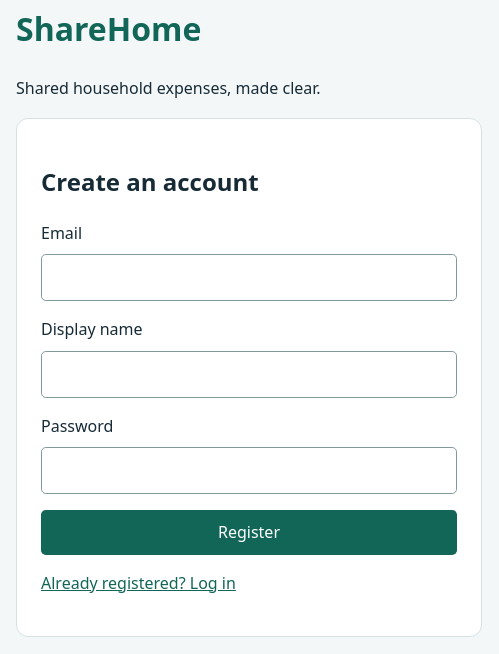
registers and returns to login with confirmation without persisting a password
In the field labelled "Email": (249, 278) x1=41 y1=254 x2=457 y2=301, type "alex@example.com"
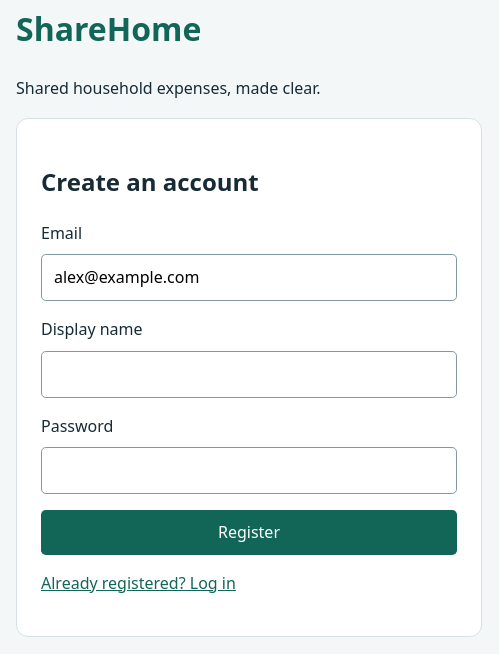
In the password field labelled "Password": (249, 471) x1=41 y1=447 x2=457 y2=494, type "test-password"
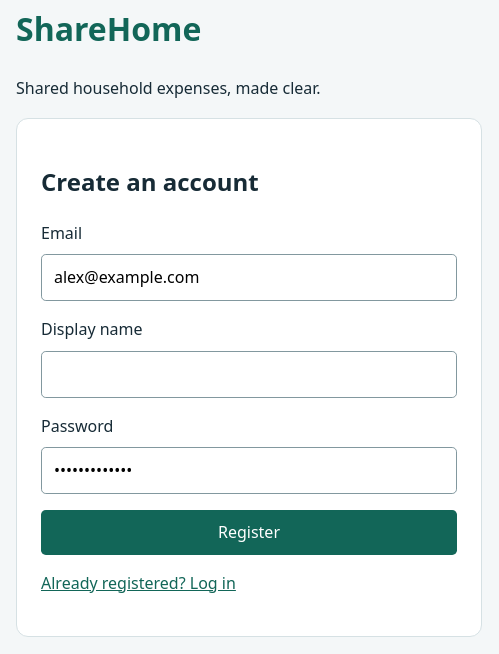
In the field labelled "Display name": (249, 374) x1=41 y1=351 x2=457 y2=398, type "Alex"
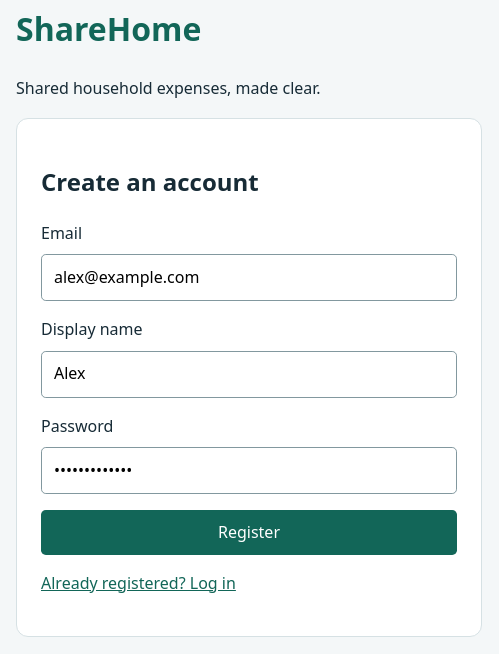
Click the button "Register": (249, 532) x1=41 y1=510 x2=457 y2=555
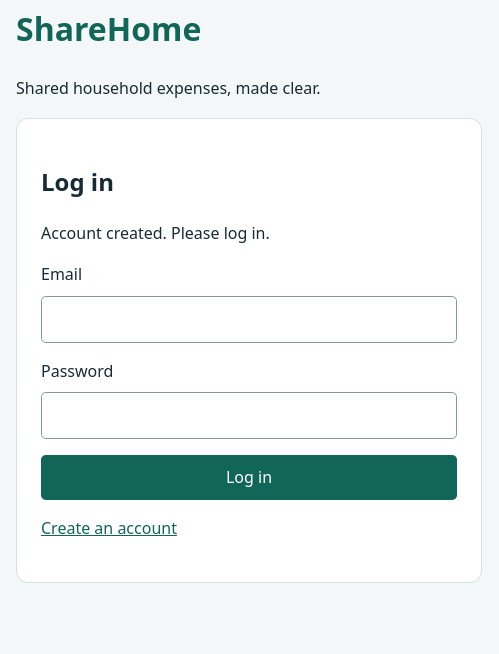
Expected: the text "Account created. Please log in." is shown, x1=41 y1=222 x2=270 y2=244
Expected: the password field labelled "Password" is empty, x1=41 y1=392 x2=457 y2=439
